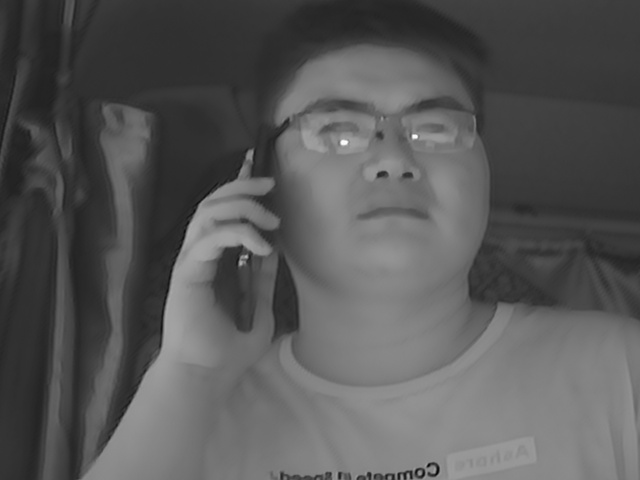hand: (162, 175, 282, 363)
